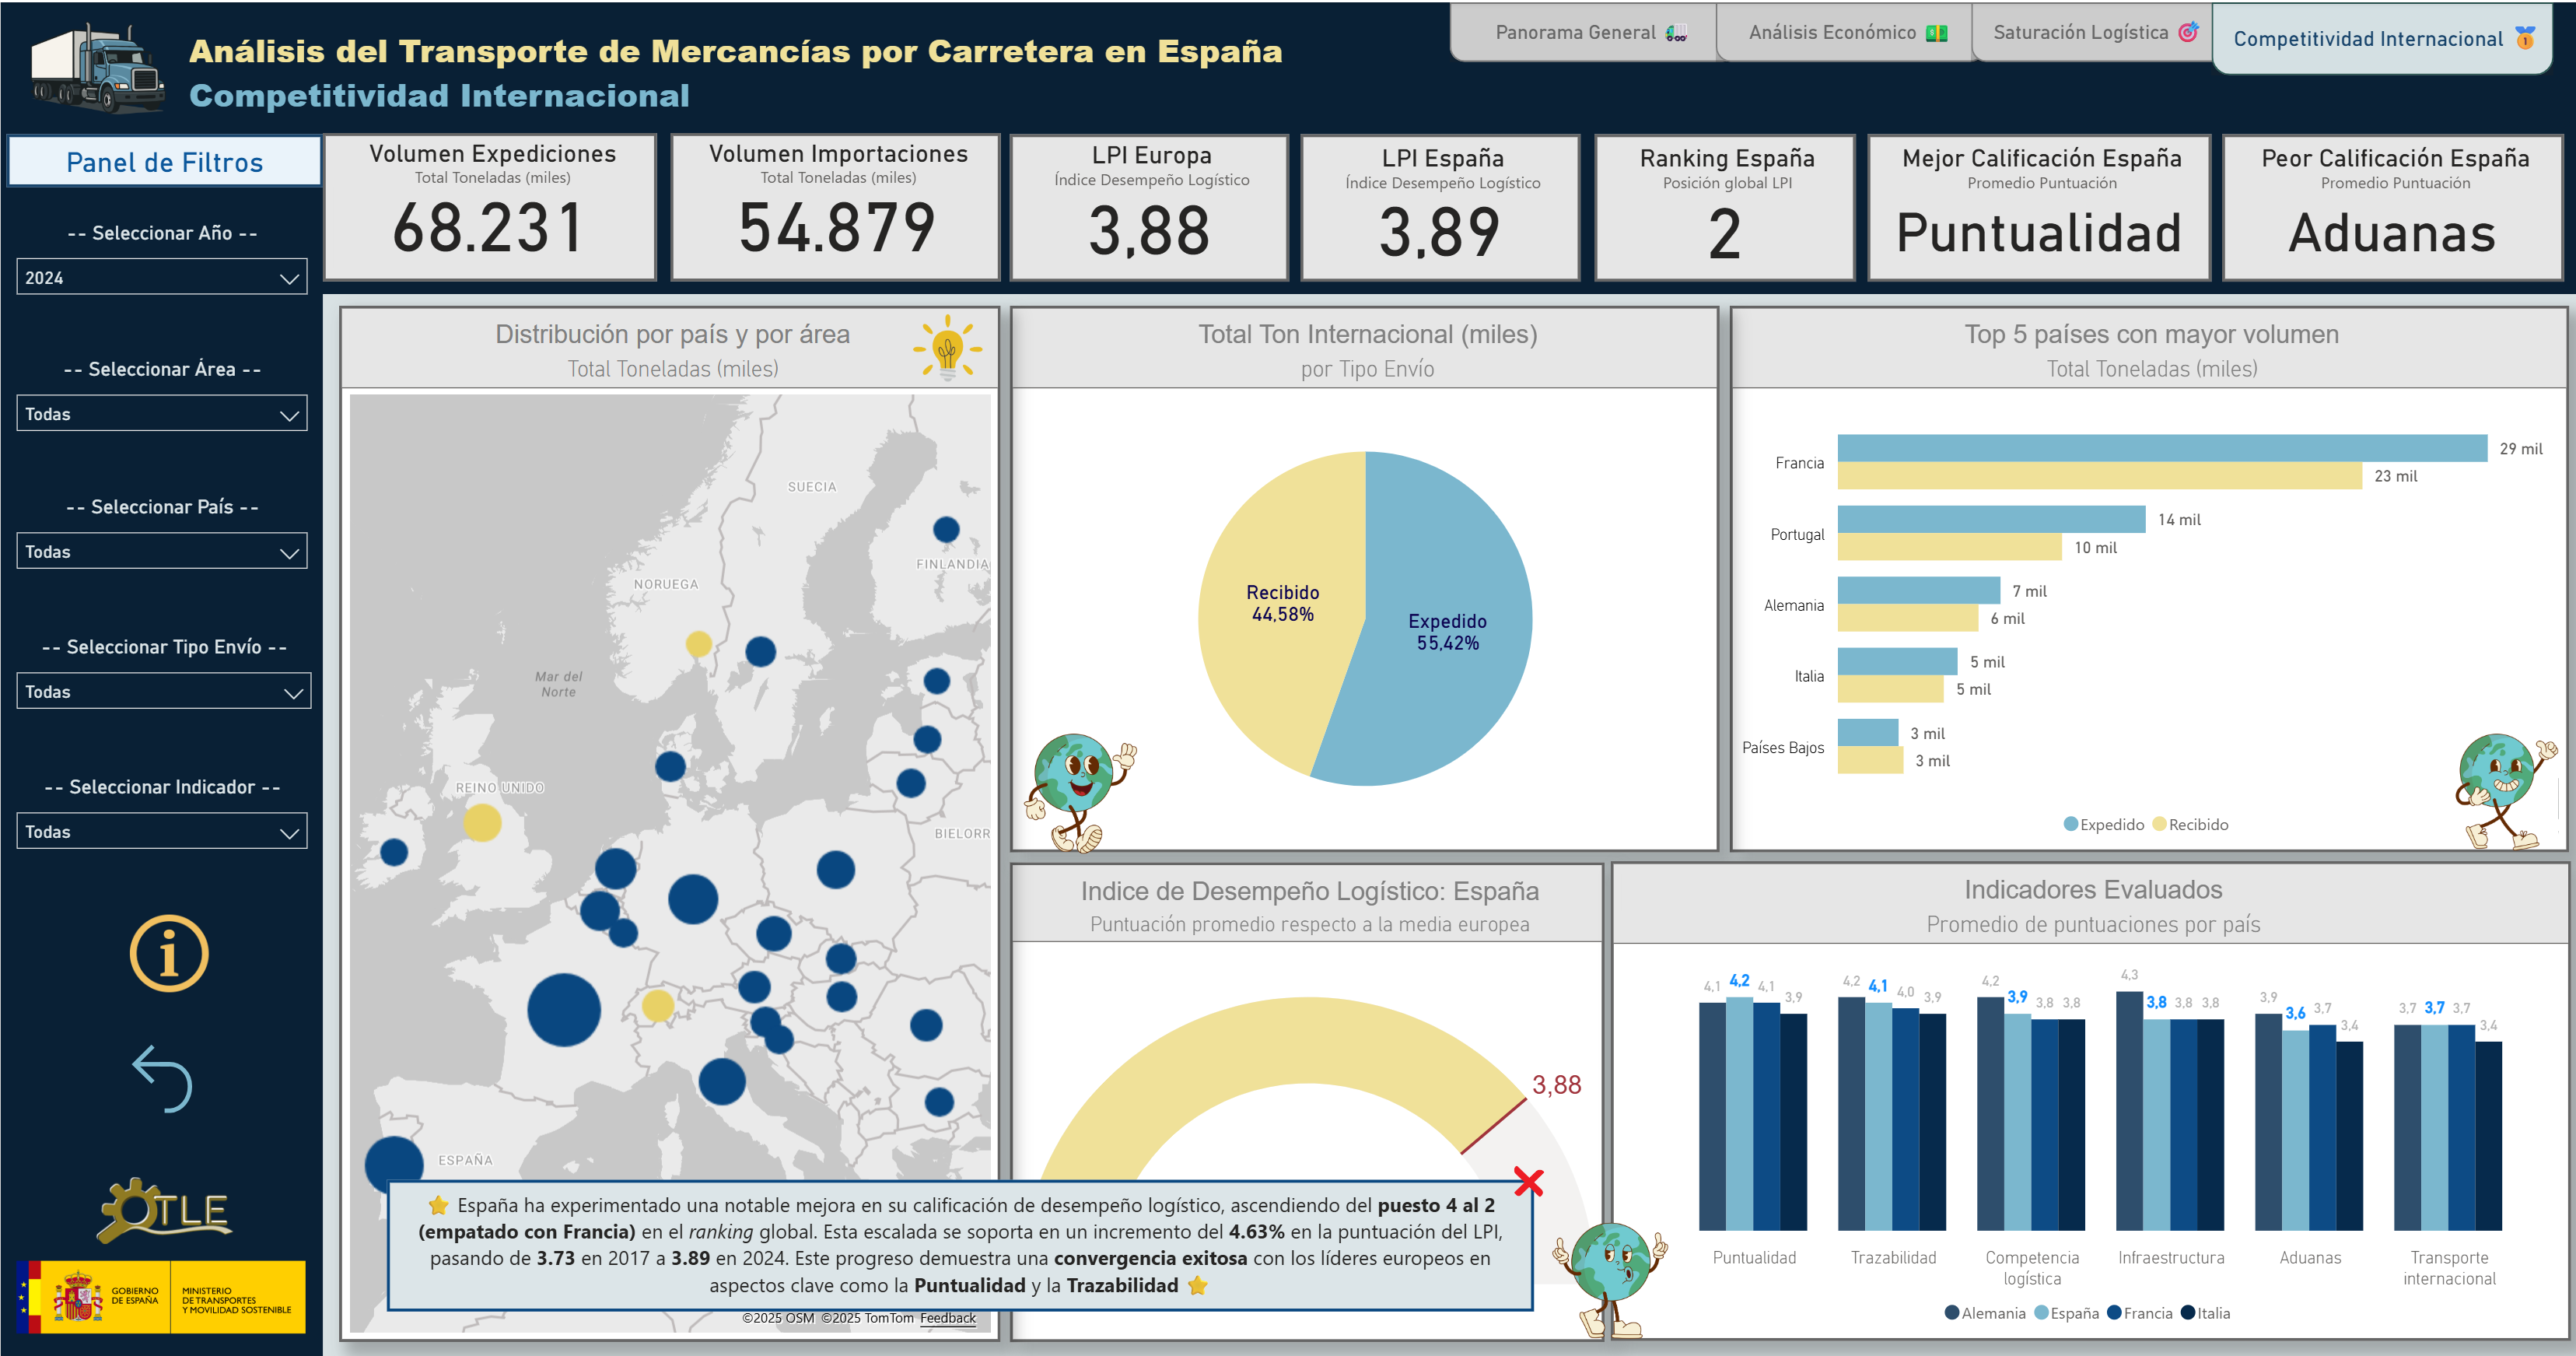

This screenshot's page, from the dashboard's own definition file:
{"tool":"powerbi","page":{"name":"Competitividad Internacional","canvas":[1747,920],"ordinal":4},"visuals":[{"type":"group","id":"g1","title":"Panel diseño","box":[0,0,1799.4,919.6],"z":0},{"type":"shape","box":[0,0,1799.4,197.8],"z":0,"group":"g1"},{"type":"shape","box":[0,81,218.5,838.5],"z":1000,"group":"g1"},{"type":"cardVisual","title":"Ranking España","fields":{"Data":["Avg(Indice Desempeño (LPI).Ranking)"]},"box":[1080.7,89.1,177,100],"z":1000},{"type":"textbox","box":[122.3,11.7,759,75.5],"z":2000,"group":"g1"},{"type":"image","title":"Info 4","box":[79.1,613.3,70.1,62.9],"z":2000},{"type":"slicer","title":"-- Seleccionar Año --","fields":{"Values":["Año Dim.Año"]},"box":[0.9,148.4,217.6,63.8],"z":3000},{"type":"slicer","title":"-- Seleccionar Área --","fields":{"Values":["Dim Paises.Área"]},"box":[0.9,241.4,217.6,63],"z":4000},{"type":"slicer","title":"-- Seleccionar País --","fields":{"Values":["Dim Paises.País"]},"box":[0.9,335.1,217.6,63.9],"z":5000},{"type":"image","title":"Ocultar Info Pag 2","box":[949.3,777.2,57.4,81.3],"z":6000},{"type":"slicer","title":"-- Seleccionar Indicador --","fields":{"Values":["Indice Desempeño (LPI).Indicador"]},"box":[0.9,524.3,217.6,63.8],"z":7000},{"type":"slicer","title":"-- Seleccionar Tipo Envío --","fields":{"Values":["Tipo Envio Dim.Tipo Envío"]},"box":[0.9,429.9,220.3,63.8],"z":8000},{"type":"textbox","box":[3.6,89,214.9,36],"z":9000},{"type":"clusteredBarChart","title":"Top 5 países con mayor volumen","fields":{"Category":["Dim Paises.País"],"Y":["Medidas Internacional.Total Ton Internacional (miles)"],"Series":["Dim Tipo Envio.Tipo Envío"]},"box":[1172.9,206,569.1,370.6],"z":10000},{"type":"cardVisual","title":"Mejor Calificación España","fields":{"Data":["Min(Indice Desempeño (LPI).Indicador)"]},"box":[1266.1,89.4,233.4,99.7],"z":11000},{"type":"cardVisual","title":"LPI Europa","fields":{"Data":["Medidas Internacional.LPI Promedio"]},"box":[684.8,89.4,189.1,100],"z":12000},{"type":"shape","box":[982.9,0,195,40.4],"z":13000},{"type":"shape","box":[1163.5,0,182.5,40.4],"z":14000},{"type":"shape","box":[1336.4,0,172.9,40.4],"z":15000},{"type":"shape","box":[1499.1,0,232,49.5],"z":16000},{"type":"image","box":[4,846.7,208.9,62.5],"z":17000},{"type":"image","box":[9.5,791.3,203.4,55.4],"z":18000},{"type":"actionButton","box":[80,699.6,59.4,61.2],"z":19000},{"type":"cardVisual","title":"LPI España","fields":{"Data":["Medidas Internacional.LPI Promedio España"]},"box":[881.5,89.1,189.9,100],"z":20000},{"type":"pieChart","fields":{"Category":["Dim Tipo Envio.Tipo Envío"],"Y":["Medidas Internacional.Total Ton Internacional (miles)"]},"box":[684.8,206,481.6,370.6],"z":22000},{"type":"cardVisual","title":"Peor Calificación España","fields":{"Data":["Min(Indice Desempeño (LPI).Indicador)"]},"box":[1506.6,89.4,231.8,99.7],"z":23000},{"type":"cardVisual","title":"Volumen Expediciones","fields":{"Data":["Medidas Internacional.Total Ton Internacional (miles)"]},"box":[218.7,88.8,226.9,100.6],"z":24000},{"type":"gauge","title":"Indice de Desempeño Logístico: España","fields":{"TargetValue":["Medidas Internacional.LPI Promedio"],"Y":["Medidas Internacional.LPI Promedio España"],"MaxValue":["Medidas Internacional.MAximo"],"MinValue":["Medidas Internacional.Minimo"]},"box":[684.8,583.2,403.5,325.4],"z":25000},{"type":"clusteredColumnChart","title":"Indicadores Evaluados","fields":{"Category":["Indice Desempeño (LPI).Indicador"],"Y":["Medidas Internacional.LPI Promedio"],"Series":["Dim Paises.País"]},"box":[1092,582.4,651.2,325.2],"z":26000},{"type":"azureMap","title":"Distribución por país y por área","fields":{"Series":["Dim Paises.Área"],"Category":["Dim Paises.País","Dim Paises.Área"],"Size":["Medidas Internacional.Total Ton Internacional (miles)"]},"box":[229.1,205.6,448.9,702.5],"z":27000},{"type":"cardVisual","title":"Volumen Importaciones","fields":{"Data":["Medidas Internacional.Total Ton Internacional (miles)"]},"box":[453.8,88.8,224.2,100.6],"z":28000},{"type":"image","box":[684.6,490.8,95.7,91.6],"z":29000},{"type":"image","box":[1653,490.8,94,89.9],"z":30000},{"type":"image","box":[1044.1,819.2,96.2,92.6],"z":31000},{"type":"image","box":[9.9,0,111.5,80.9],"z":32000},{"type":"image","box":[613,205.7,58.4,57.6],"z":33000}]}

Visuals, with their boxes in screenshot pixels (x1, y1, x2, y2), scaled from the page's 1747x920 canvas onto the 2576x1356 screenshot:
"Panel diseño" group: crop(0, 0, 2575, 1355)
shape: crop(0, 0, 2575, 292)
shape: crop(0, 119, 322, 1355)
"Ranking España" cardVisual: crop(1594, 131, 1854, 279)
textbox: crop(180, 17, 1300, 128)
"Info 4" image: crop(117, 904, 220, 997)
"-- Seleccionar Año --" slicer: crop(2, 219, 322, 313)
"-- Seleccionar Área --" slicer: crop(2, 356, 322, 449)
"-- Seleccionar País --" slicer: crop(2, 494, 322, 588)
"Ocultar Info Pag 2" image: crop(1400, 1145, 1485, 1265)
"-- Seleccionar Indicador --" slicer: crop(2, 773, 322, 867)
"-- Seleccionar Tipo Envío --" slicer: crop(2, 633, 326, 727)
textbox: crop(5, 131, 322, 184)
"Top 5 países con mayor volumen" clusteredBarChart: crop(1730, 303, 2569, 850)
"Mejor Calificación España" cardVisual: crop(1867, 131, 2211, 279)
"LPI Europa" cardVisual: crop(1010, 131, 1289, 279)
shape: crop(1449, 0, 1737, 60)
shape: crop(1716, 0, 1985, 60)
shape: crop(1971, 0, 2225, 60)
shape: crop(2210, 0, 2553, 73)
image: crop(6, 1248, 314, 1340)
image: crop(14, 1166, 314, 1248)
actionButton: crop(118, 1031, 205, 1121)
"LPI España" cardVisual: crop(1300, 131, 1580, 279)
pieChart - Dim Tipo Envio.Tipo Envío x Medidas Internacional.Total Ton Internacional (miles): crop(1010, 303, 1720, 850)
"Peor Calificación España" cardVisual: crop(2221, 131, 2564, 279)
"Volumen Expediciones" cardVisual: crop(323, 131, 657, 279)
"Indice de Desempeño Logístico: España" gauge: crop(1010, 860, 1605, 1339)
"Indicadores Evaluados" clusteredColumnChart: crop(1610, 858, 2571, 1338)
"Distribución por país y por área" azureMap: crop(338, 303, 999, 1338)
"Volumen Importaciones" cardVisual: crop(669, 131, 999, 279)
image: crop(1010, 724, 1150, 858)
image: crop(2438, 724, 2575, 856)
image: crop(1539, 1207, 1682, 1344)
image: crop(15, 0, 179, 119)
image: crop(904, 303, 990, 388)
